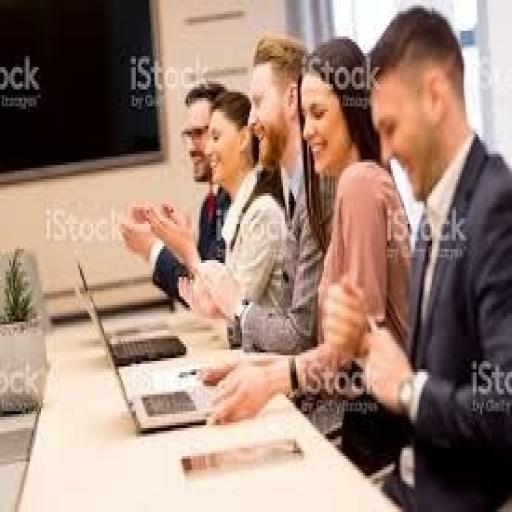clapping: (67, 59, 356, 424), (318, 3, 510, 509), (199, 34, 415, 467)
